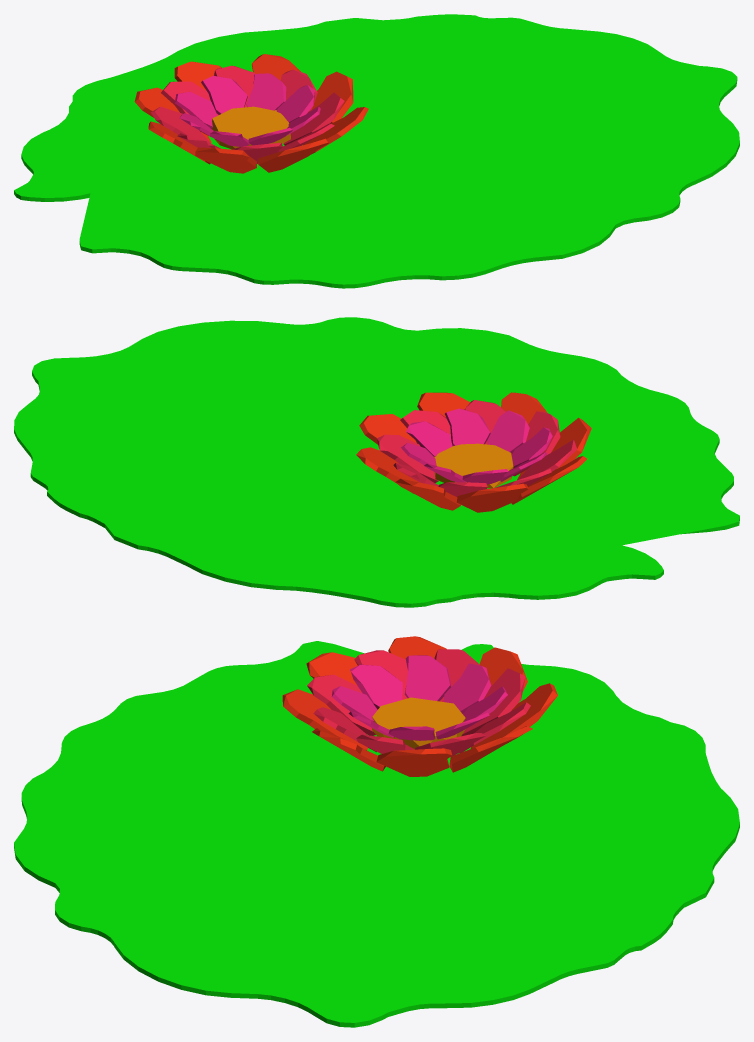
The model's file is lokvanj 6.fbx.
3 views of the same model, one above another, from view 1: azimuth 30°, elevation 25°; view 2: azimuth 150°, elevation 25°; view 3: azimuth 270°, elevation 25° (orthographic). The views are drawn at different scales.
Visible parts, largest first — view 1: Cylinder.019; view 2: Cylinder.019; view 3: Cylinder.019.
Boxes of the visible parts, left/top/right/bottom form: Cylinder.019: left=14, top=14, right=739, bottom=288; Cylinder.019: left=14, top=317, right=739, bottom=607; Cylinder.019: left=14, top=636, right=739, bottom=1027.
Bounding box in the file's own units: 462 × 42.61 × 371.
